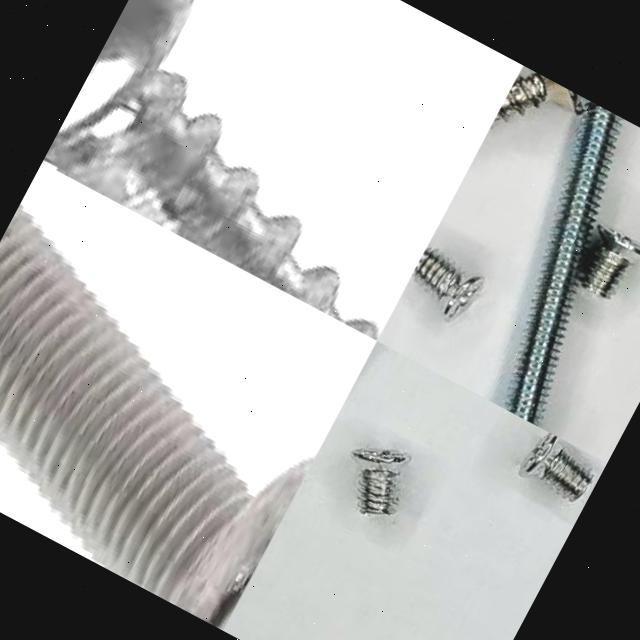Screw: (0, 204, 315, 630), (41, 0, 377, 341), (508, 99, 623, 426), (518, 432, 593, 502), (412, 248, 483, 318), (579, 225, 640, 299), (492, 74, 580, 123), (351, 450, 409, 515)
